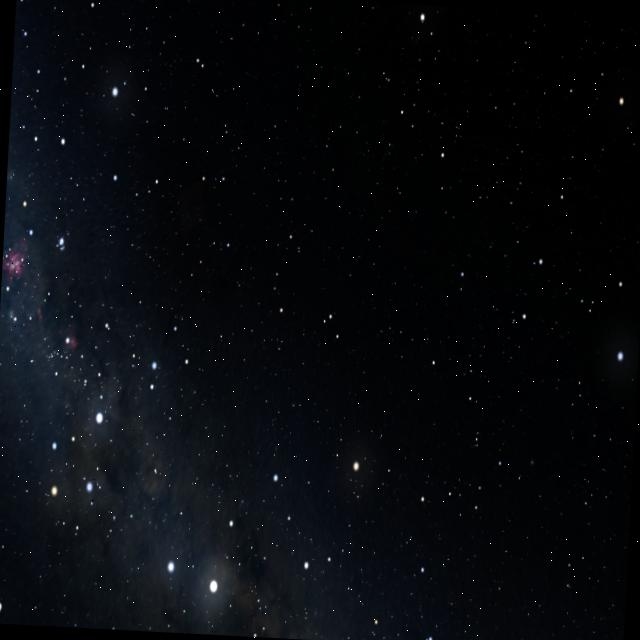Apus: (274, 303, 344, 347)
